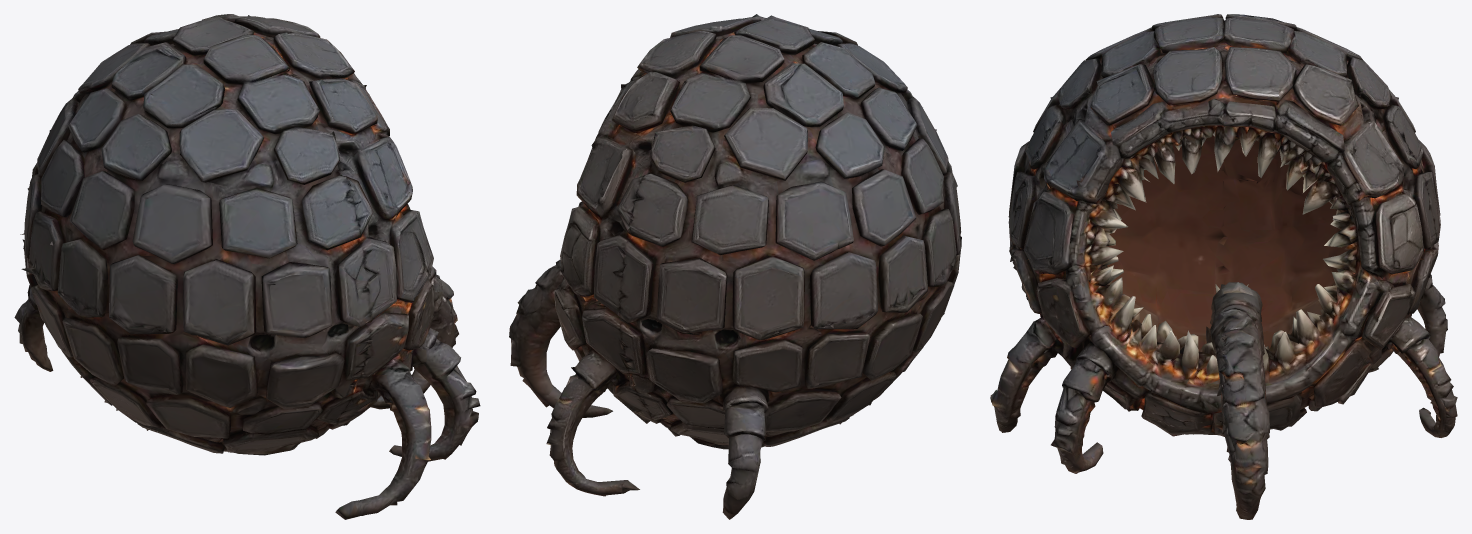
File: devourer.glb
3 views of the same model, side by side, from view 1: azimuth 30°, elevation 25°; view 2: azimuth 150°, elevation 25°; view 3: azimuth 270°, elevation 25° (orthographic). The views are drawn at different scales.
Visible parts, largest first — view 1: tripo_node_61459fac-46e0-4200-9100-1638b416846c; view 2: tripo_node_61459fac-46e0-4200-9100-1638b416846c; view 3: tripo_node_61459fac-46e0-4200-9100-1638b416846c.
Part boxes in pixels (x1=…): tripo_node_61459fac-46e0-4200-9100-1638b416846c: x1=14, y1=14, x2=480, y2=519; tripo_node_61459fac-46e0-4200-9100-1638b416846c: x1=509, y1=14, x2=961, y2=519; tripo_node_61459fac-46e0-4200-9100-1638b416846c: x1=990, y1=14, x2=1457, y2=519.
Size of the model in its own units: 0.9798 by 0.9424 by 0.9803.
1 material, 1 textured.
